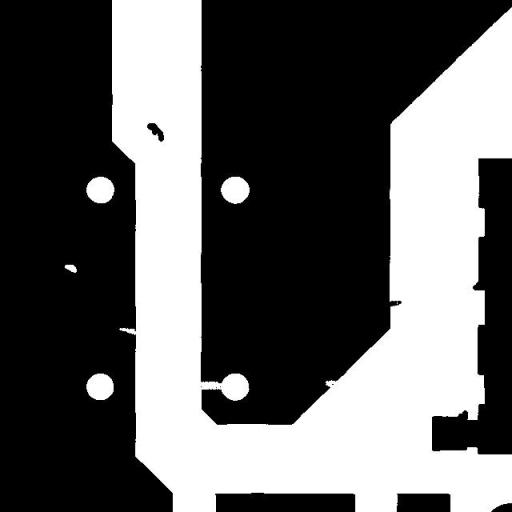copper: (139, 115, 171, 149)
mousebite: (112, 320, 146, 342), (318, 372, 344, 394)
open: (187, 374, 234, 398)
pin-hole: (57, 257, 84, 280)
spur: (374, 292, 409, 314), (465, 274, 497, 298), (449, 402, 475, 428)
